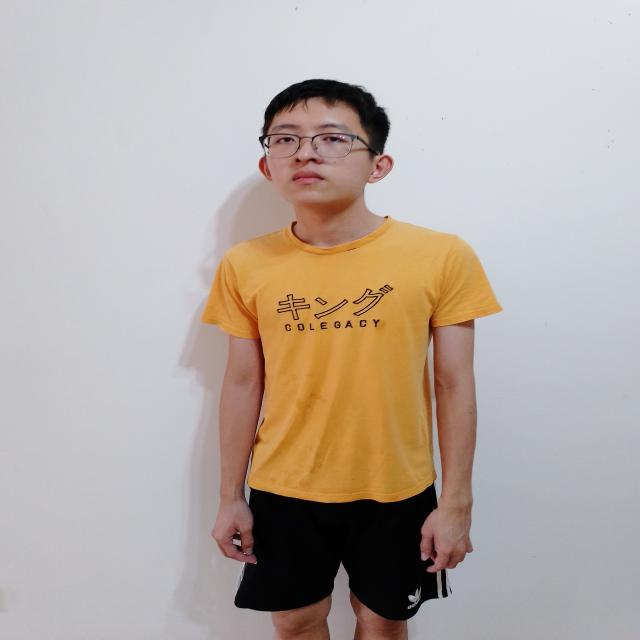person_without_labcoat: (202, 80, 501, 640)
